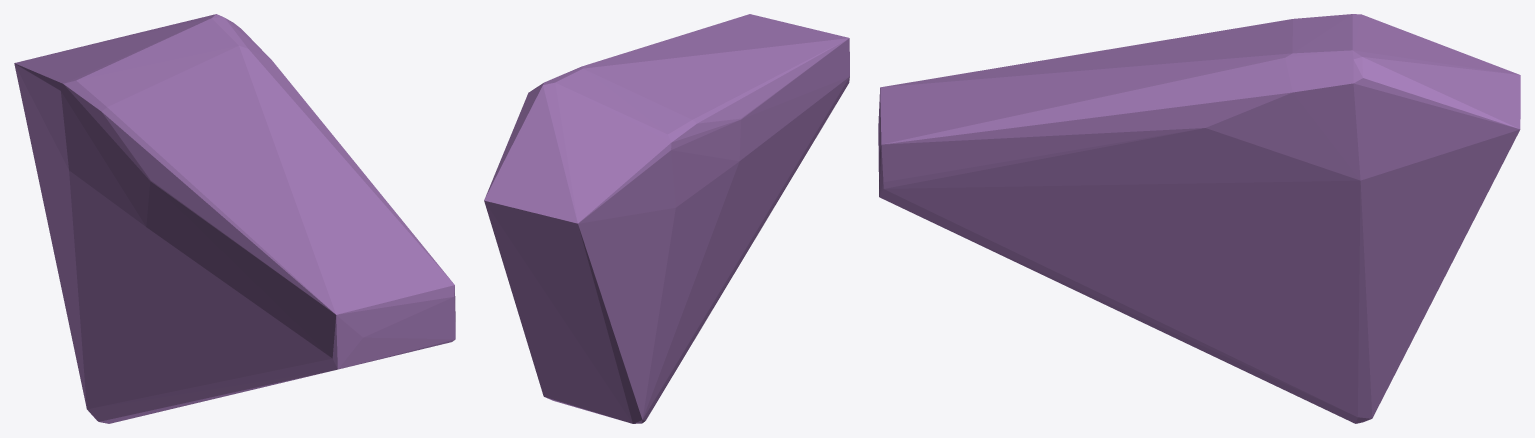
File: vehicle_forklift_orange_a01.glb
3 renders of one model, left to right at view 1: azimuth 30°, elevation 25°; view 2: azimuth 150°, elevation 25°; view 3: azimuth 270°, elevation 25°, orthographic. The views are drawn at different scales.
Visible parts, largest first — view 1: geometry_0; view 2: geometry_0; view 3: geometry_0.
Part boxes in pixels (x1=…): geometry_0: x1=14, y1=14, x2=455, y2=423; geometry_0: x1=484, y1=14, x2=849, y2=423; geometry_0: x1=878, y1=14, x2=1520, y2=423.
Size of the model in its own units: 0.1533 by 0.3109 by 0.4791.
